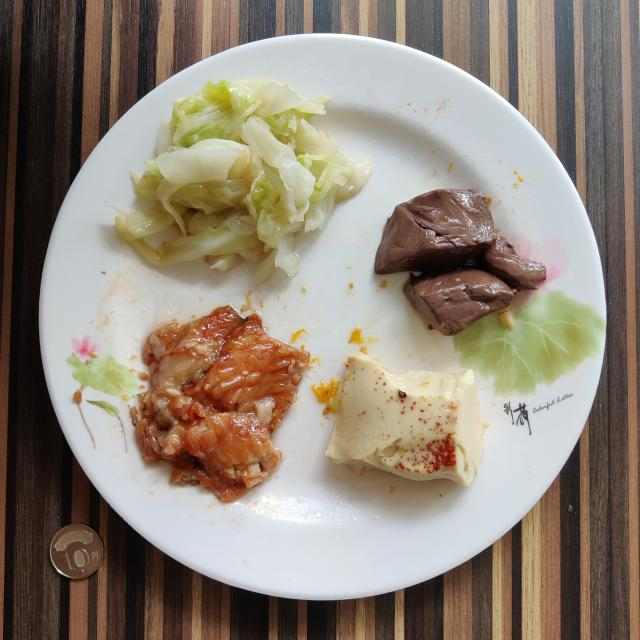Kabayaki sea bream fillet: (135, 306, 310, 501)
cabbage: (116, 79, 372, 281)
coin: (50, 524, 104, 579)
pig blood curd: (375, 189, 545, 335)
